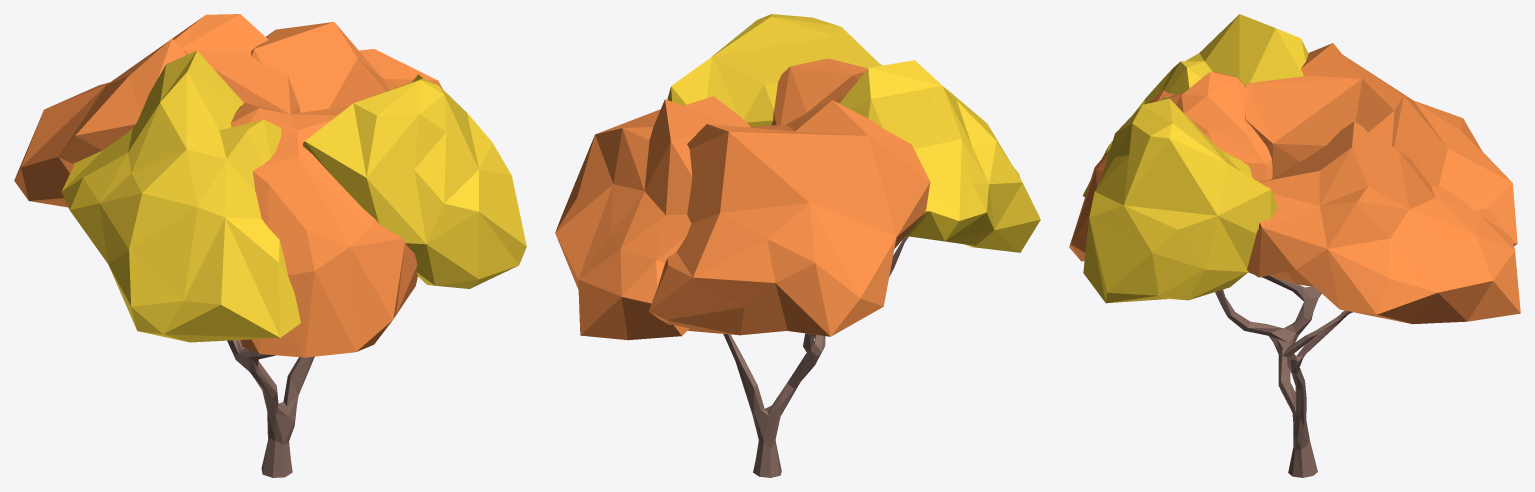
File: Tree_027.glb
3 renders of one model, left to right at view 1: azimuth 30°, elevation 25°; view 2: azimuth 150°, elevation 25°; view 3: azimuth 270°, elevation 25°, orthographic. The views are drawn at different scales.
Parts seen in each view (by area): view 1: Tree_027; view 2: Tree_027; view 3: Tree_027.
Part boxes in pixels (box(x1,y1,x2,y2)): Tree_027: box(14, 14, 526, 477); Tree_027: box(555, 14, 1040, 477); Tree_027: box(1069, 14, 1520, 477).
Size of the model in its own units: 11.29 by 12.05 by 12.19.
1 material, 1 textured.
